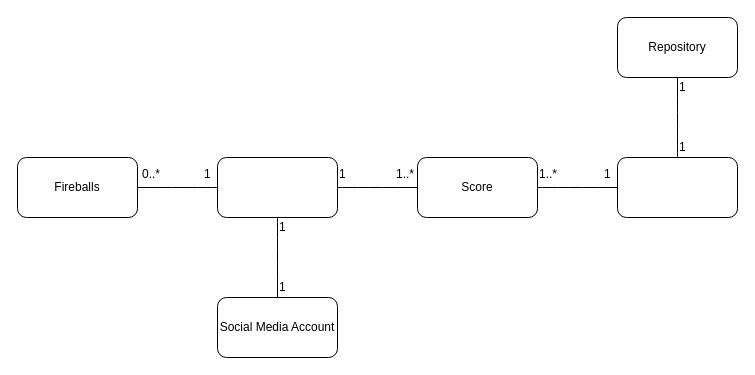
Image size: 755x375. Some labels were removed from this diagram. The shapes that lost their labels are listed below. From the top down, each one's centre as x and y in pixels, then its label:
At (277,187): "Player".
At (677,187): "Leaderboard".
